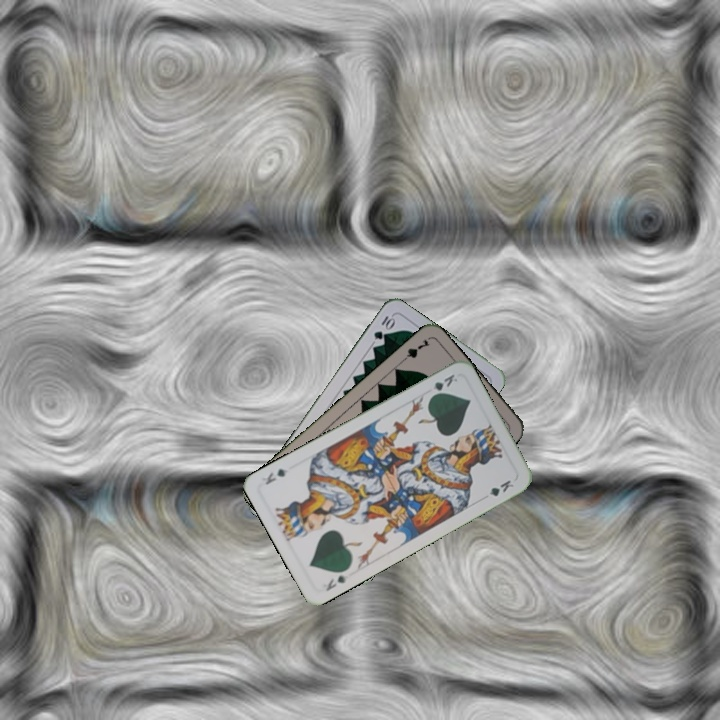G10: (369, 312, 397, 342)
G7: (397, 335, 433, 366)
GK: (426, 370, 460, 400), (322, 571, 349, 594)
